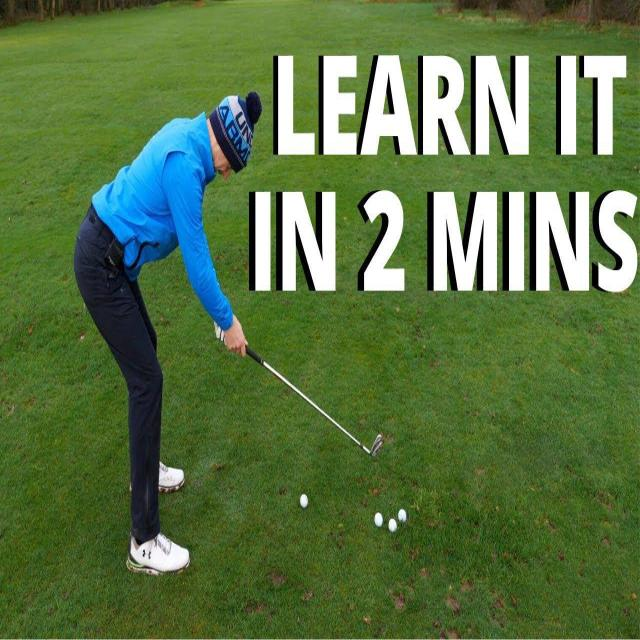ball: (372, 490, 384, 536)
